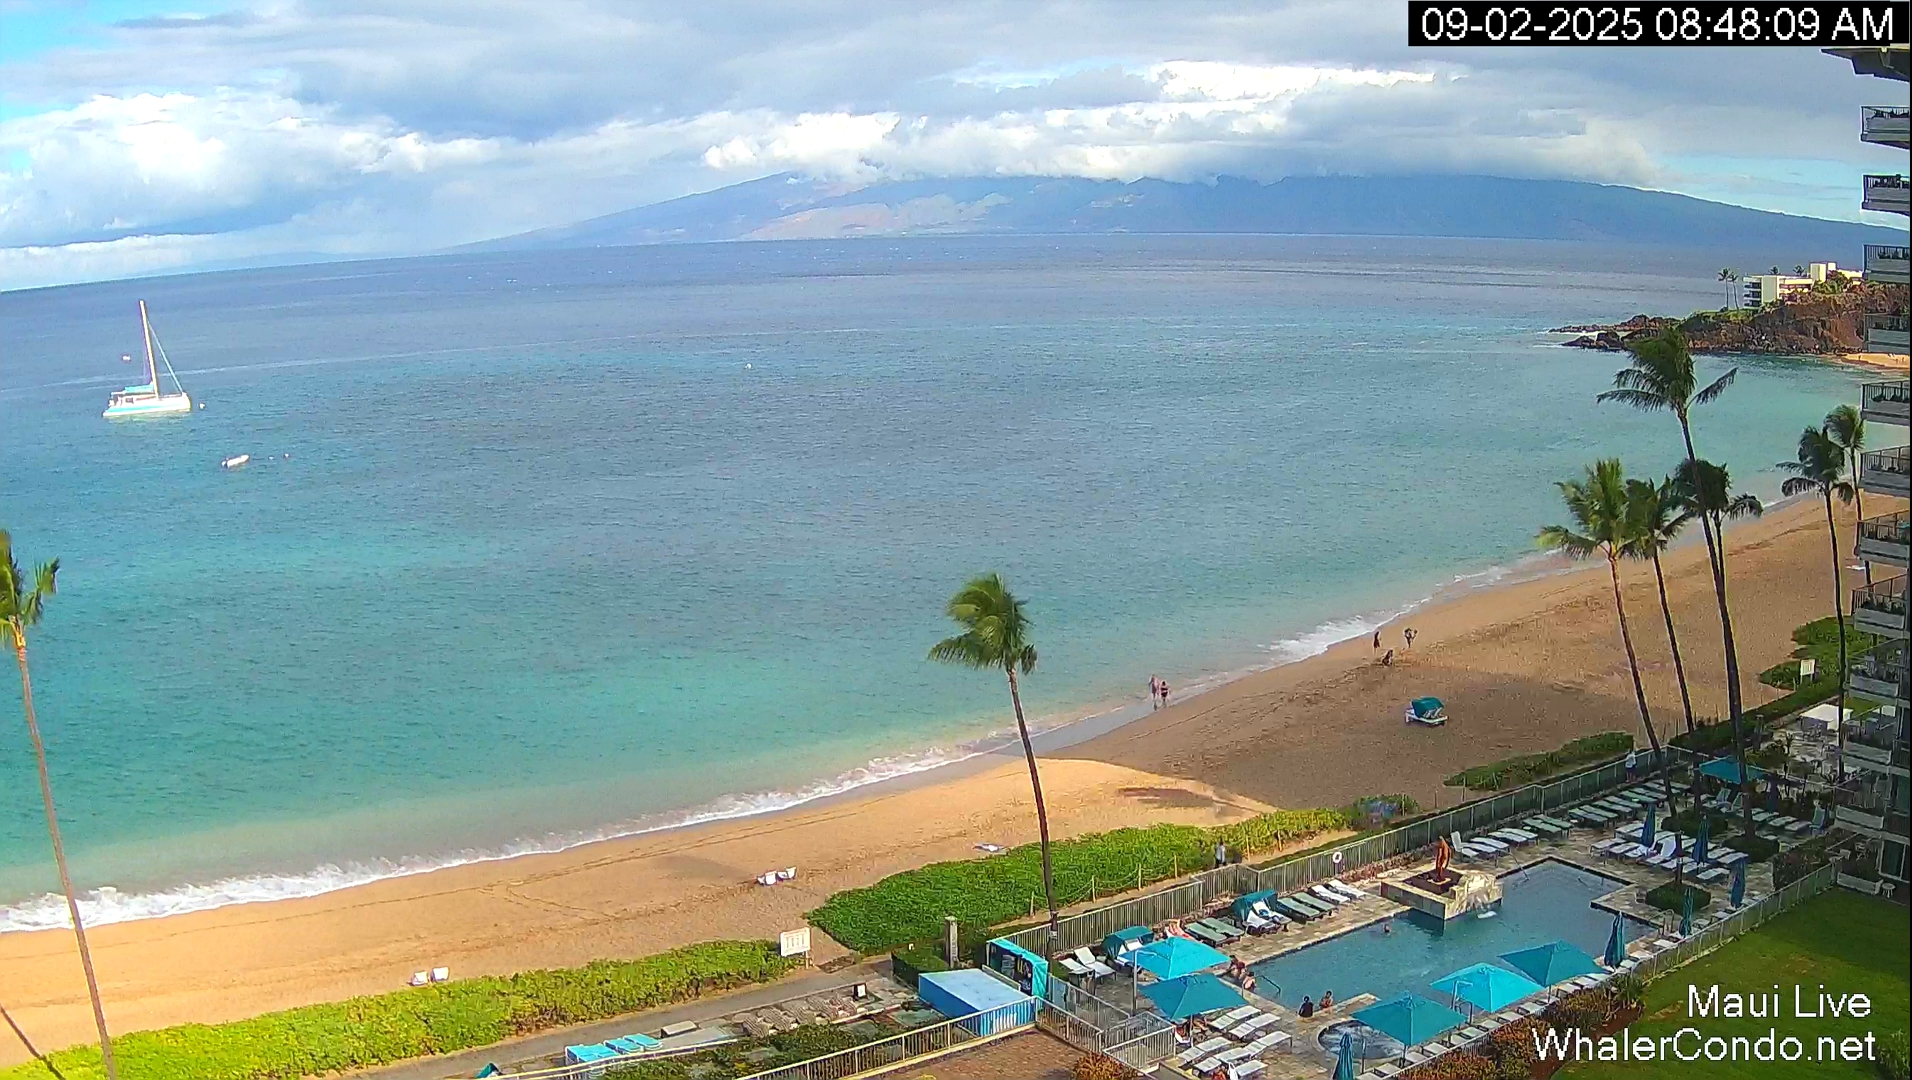boat: (1789, 380, 1910, 639), (102, 299, 191, 419), (474, 1032, 639, 1079), (1404, 696, 1449, 726)
person: (1624, 750, 1638, 783), (1148, 675, 1160, 711), (1297, 995, 1313, 1017), (1554, 1024, 1567, 1051), (1215, 840, 1226, 868), (1242, 972, 1256, 994), (1159, 681, 1170, 708), (1319, 991, 1333, 1011), (1373, 630, 1382, 657)
